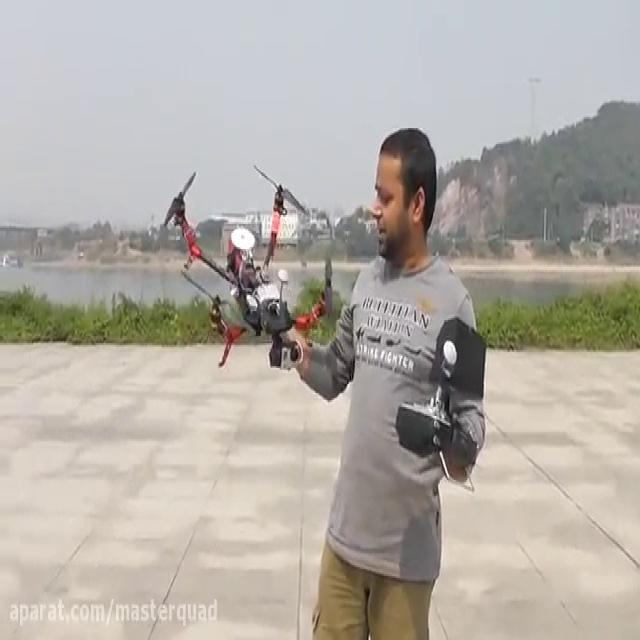drone: (162, 157, 338, 376)
